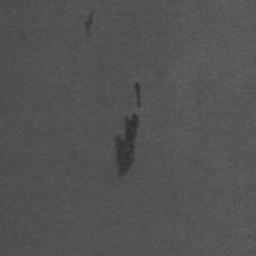Iron scale compression: (115, 113, 139, 179), (86, 10, 95, 37), (134, 83, 142, 109)
